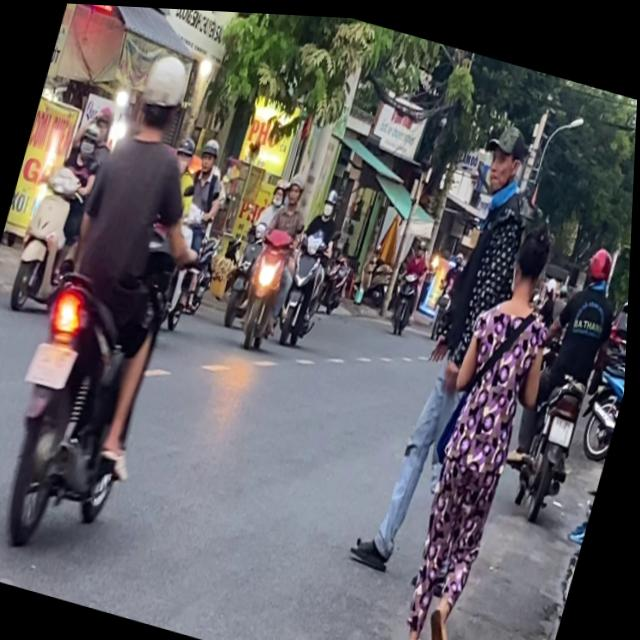helmet: (126, 44, 196, 142), (584, 236, 618, 283), (89, 96, 117, 135), (196, 131, 223, 171), (75, 116, 102, 154), (284, 165, 308, 204), (321, 180, 340, 211), (270, 173, 290, 202)
licenseplate: (0, 29, 244, 571), (501, 225, 633, 519), (3, 84, 118, 321), (140, 125, 243, 343), (228, 158, 321, 354), (271, 175, 352, 349)
nohelmet: (27, 336, 80, 388), (550, 408, 578, 438)
